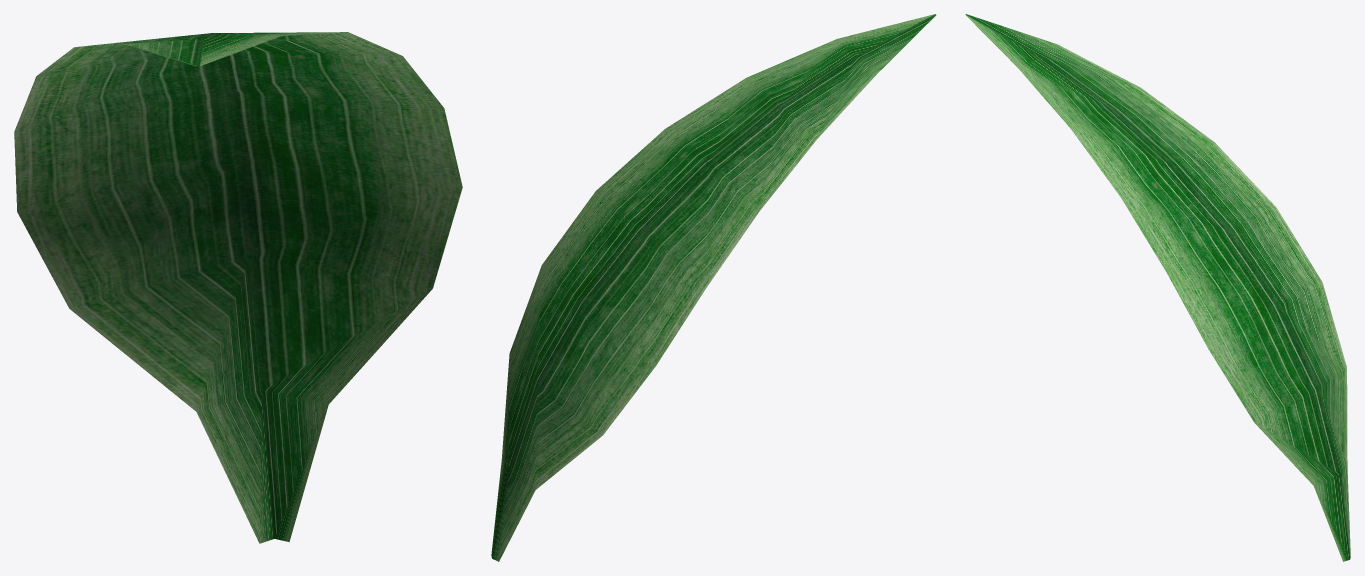
Rendered from leaf.fbx.
The picture shows the model from 3 angles, left to right: view 1: azimuth 30°, elevation 25°; view 2: azimuth 150°, elevation 25°; view 3: azimuth 270°, elevation 25°; orthographic projection. The views are drawn at different scales.
Parts seen in each view (by area): view 1: Roses_Orange.002; view 2: Roses_Orange.002; view 3: Roses_Orange.002.
Part boxes in pixels (bbox=[...]): Roses_Orange.002: bbox=[14, 32, 462, 543]; Roses_Orange.002: bbox=[491, 14, 936, 561]; Roses_Orange.002: bbox=[965, 14, 1350, 561].
Bounding box in the file's own units: 7.58 × 11.99 × 9.65.
